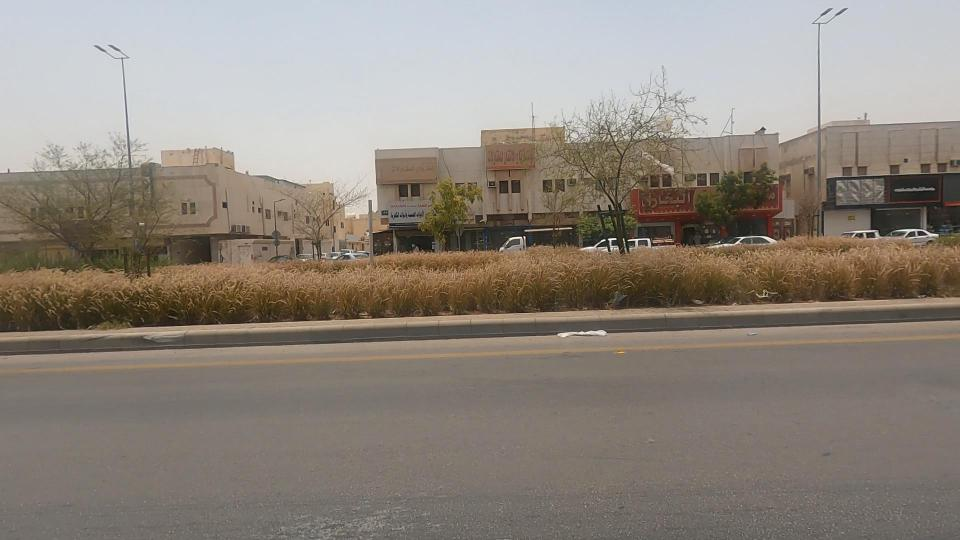BAD_BILLBOARD: (427, 124, 577, 197), (781, 165, 920, 227)
GARBAGE: (523, 292, 659, 365)
